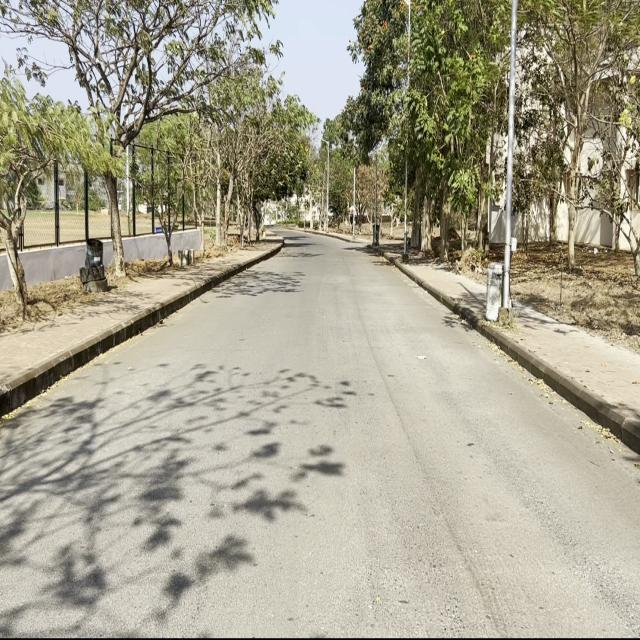Road: (4, 232, 637, 634)
